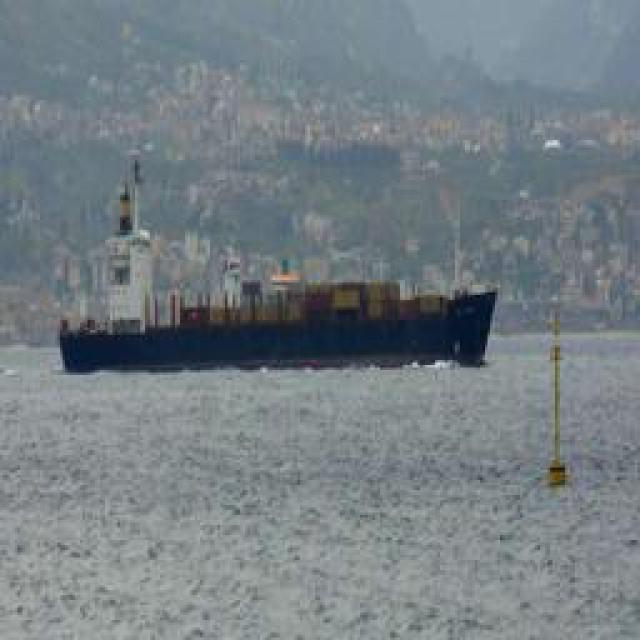Ship: (69, 283, 494, 371)
